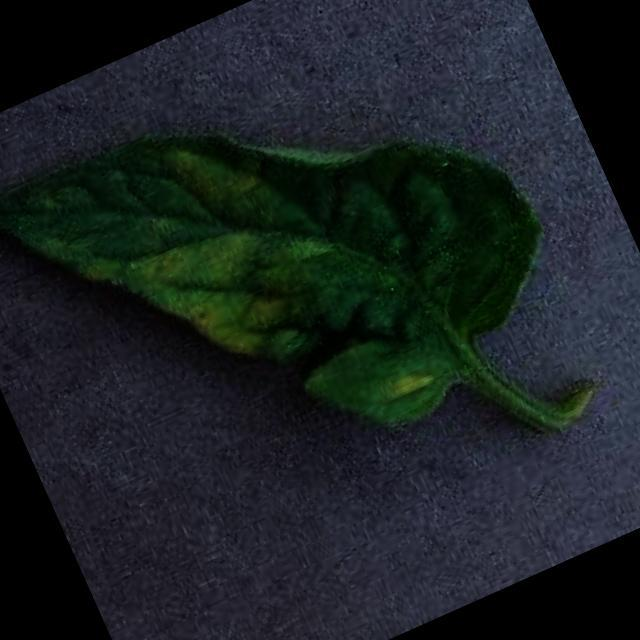Tomato mold leaf: (0, 0, 595, 564)
